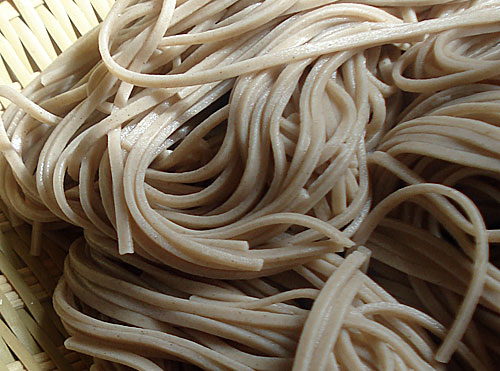Soba: (1, 1, 496, 371)
